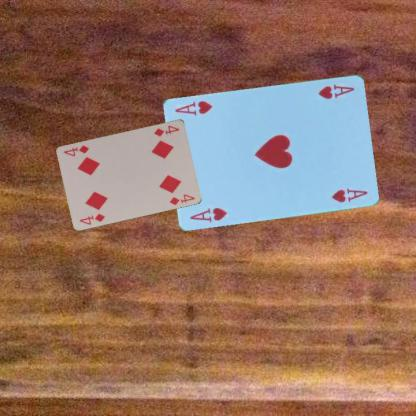4d: (151, 122, 181, 138), (77, 211, 106, 226)
Ah: (187, 205, 228, 223), (316, 82, 356, 100)
